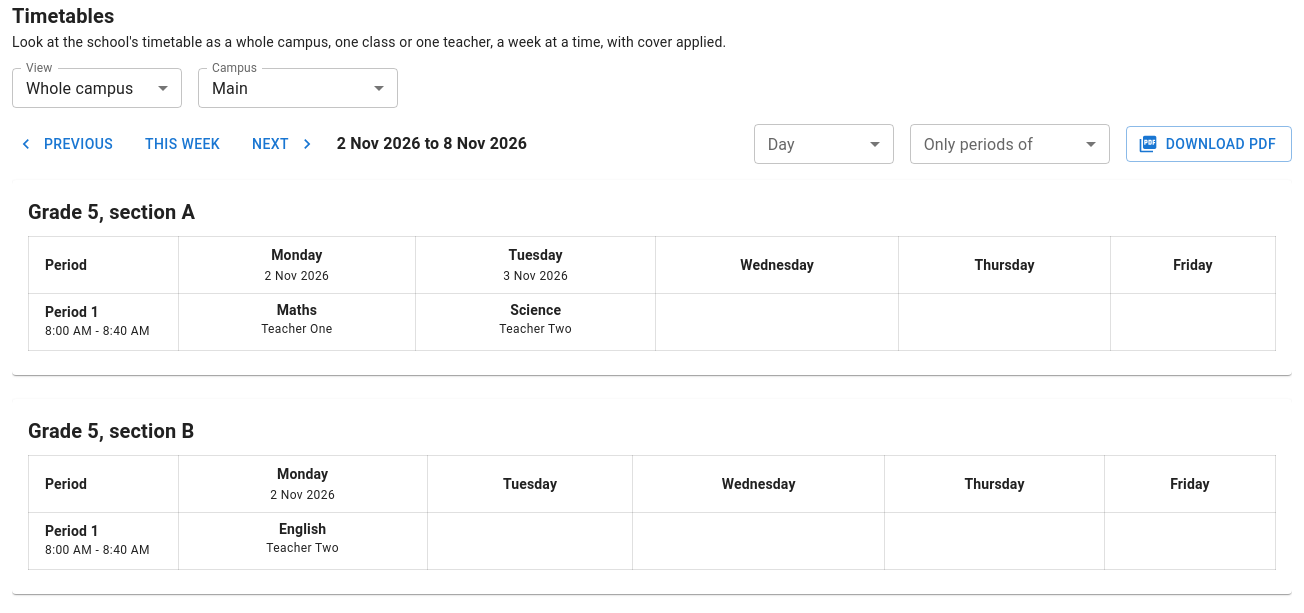
it: TimetablesSection › shows a teacher's own week from the teacher view, and only that campus's teachers
expect the heading "Grade 5, section A" is shown: met, box [28, 200, 195, 224]
Click the dropdown named "View".
click(80, 88)  # box [26, 78, 134, 98]
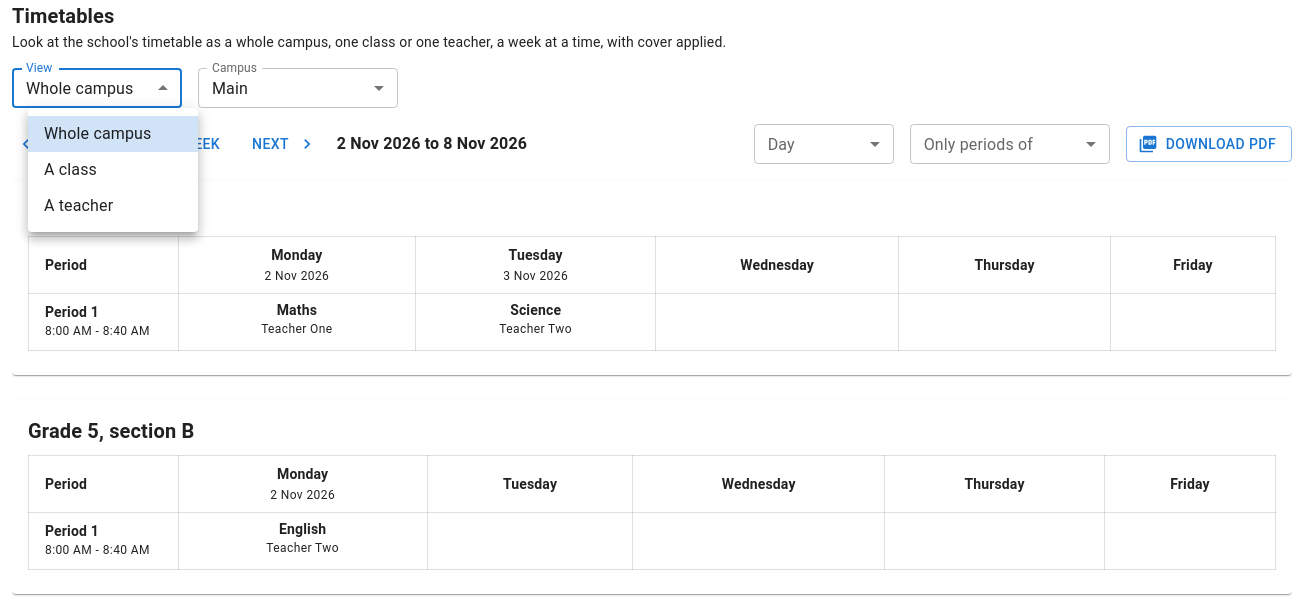
Click the option "A teacher".
click(79, 206)  # box [44, 196, 113, 215]
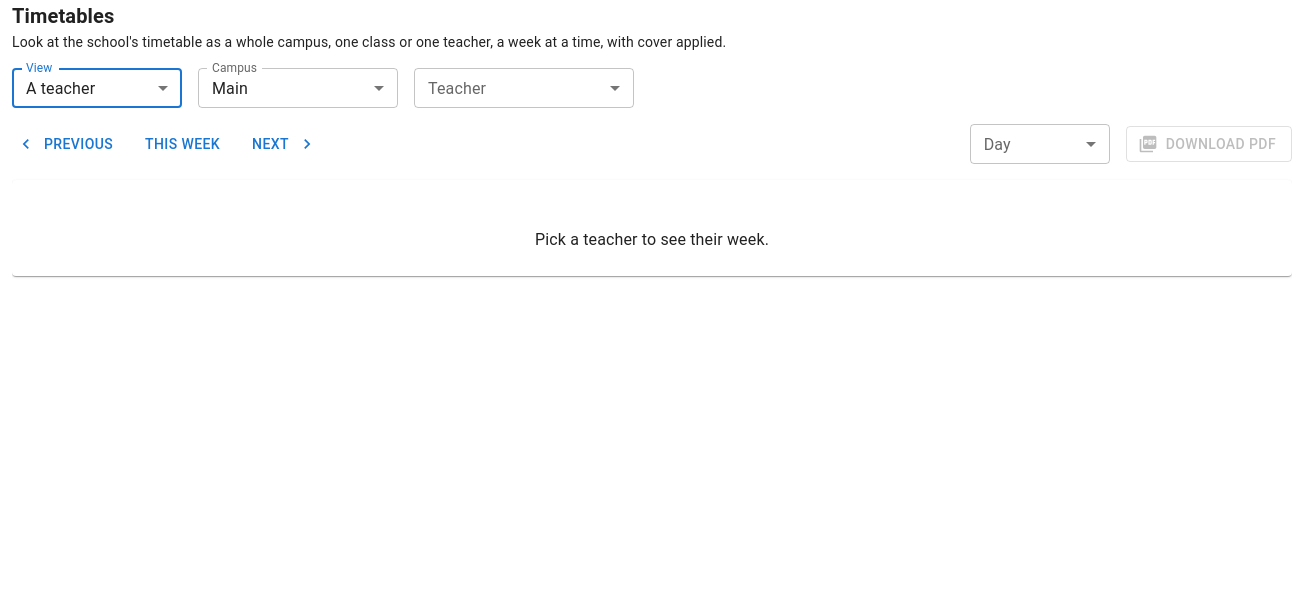
expect the text "Pick a teacher to see their week." is shown: met, box [535, 230, 769, 249]
Click the dropdown named "Teacher" in the row of "Main".
click(524, 88)  # box [414, 68, 634, 108]
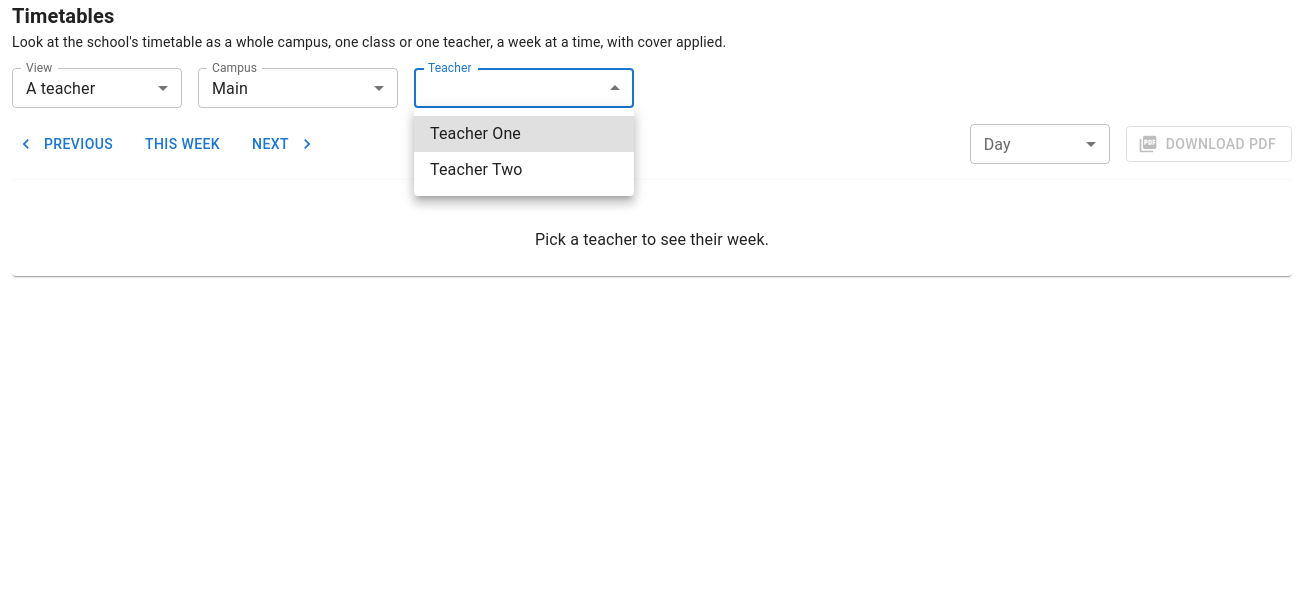
Click the option "Teacher One".
click(524, 134)  # box [414, 116, 634, 152]
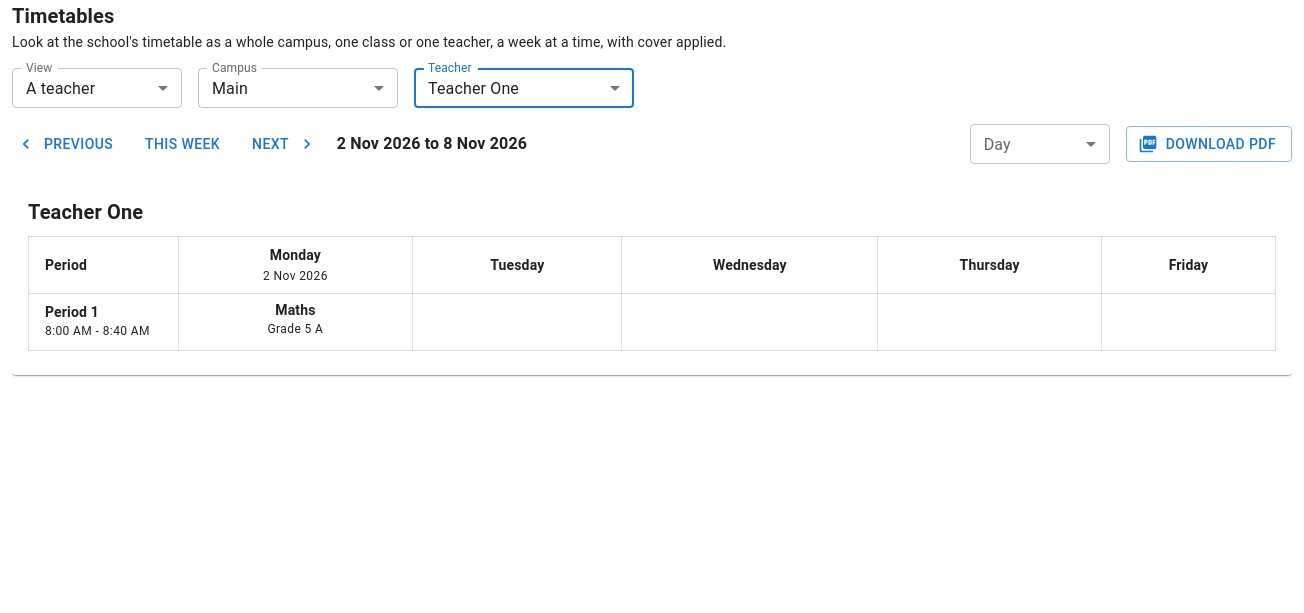
expect the heading "Teacher One" is shown: met, box [28, 200, 143, 224]
